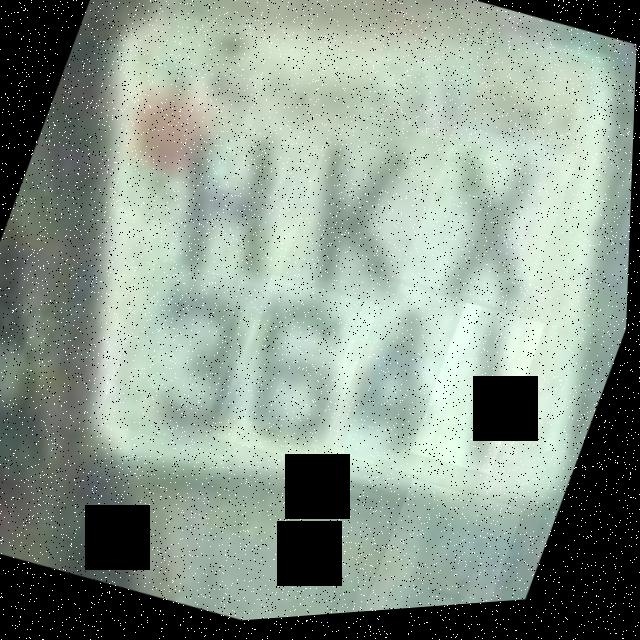1: (413, 305, 549, 487)
3: (99, 254, 287, 467)
4: (312, 277, 485, 489)
6: (213, 272, 383, 478)
8: (358, 478, 530, 618)
K: (279, 111, 454, 323)
X: (398, 123, 581, 327)
